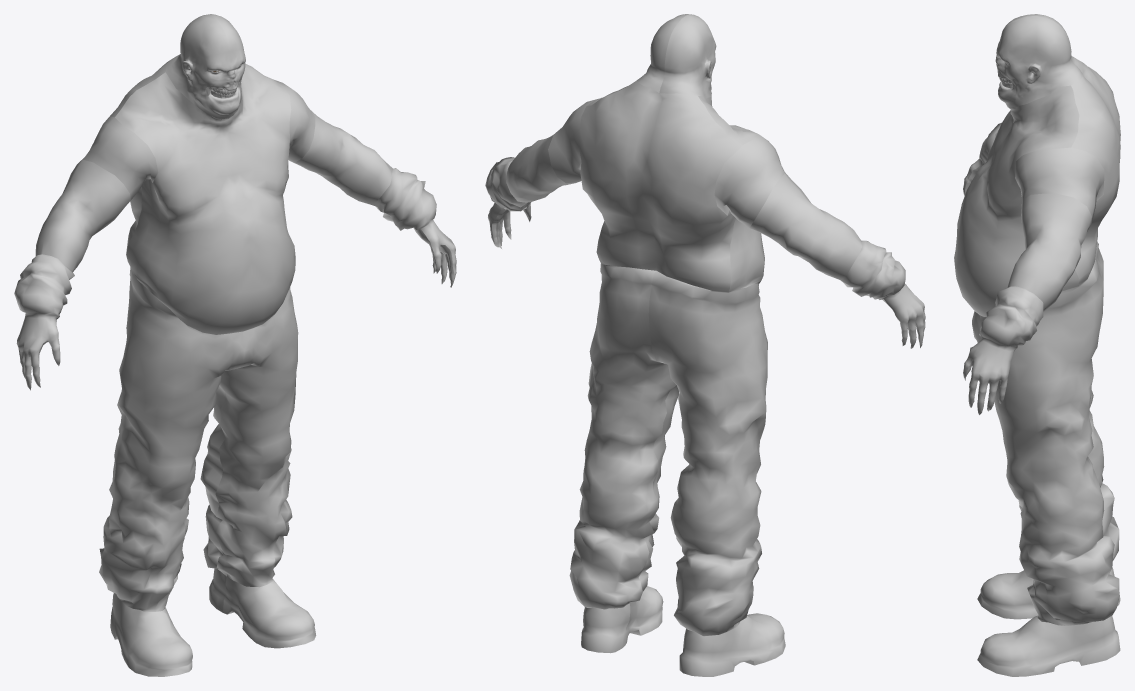
Rendered from Soldier.obj.
3 renders of one model, left to right at view 1: azimuth 30°, elevation 25°; view 2: azimuth 150°, elevation 25°; view 3: azimuth 270°, elevation 25°, orthographic.
Visible parts, largest first — view 1: Soldier_V3_ID2, Soldier_V3_ID3, Soldier_V3_ID1; view 2: Soldier_V3_ID3, Soldier_V3_ID2, Soldier_V3_ID1; view 3: Soldier_V3_ID3, Soldier_V3_ID2, Soldier_V3_ID1.
Part boxes in pixels (x1=…): Soldier_V3_ID2: x1=14, y1=60, x2=456, y2=390; Soldier_V3_ID3: x1=99, y1=88, x2=316, y2=676; Soldier_V3_ID1: x1=165, y1=14, x2=245, y2=119; Soldier_V3_ID3: x1=569, y1=262, x2=785, y2=676; Soldier_V3_ID2: x1=485, y1=80, x2=925, y2=348; Soldier_V3_ID1: x1=636, y1=14, x2=716, y2=98; Soldier_V3_ID3: x1=972, y1=77, x2=1120, y2=676; Soldier_V3_ID2: x1=954, y1=61, x2=1120, y2=414; Soldier_V3_ID1: x1=995, y1=14, x2=1082, y2=107.
Size of the model in its own units: 150 by 209 by 50.9.
